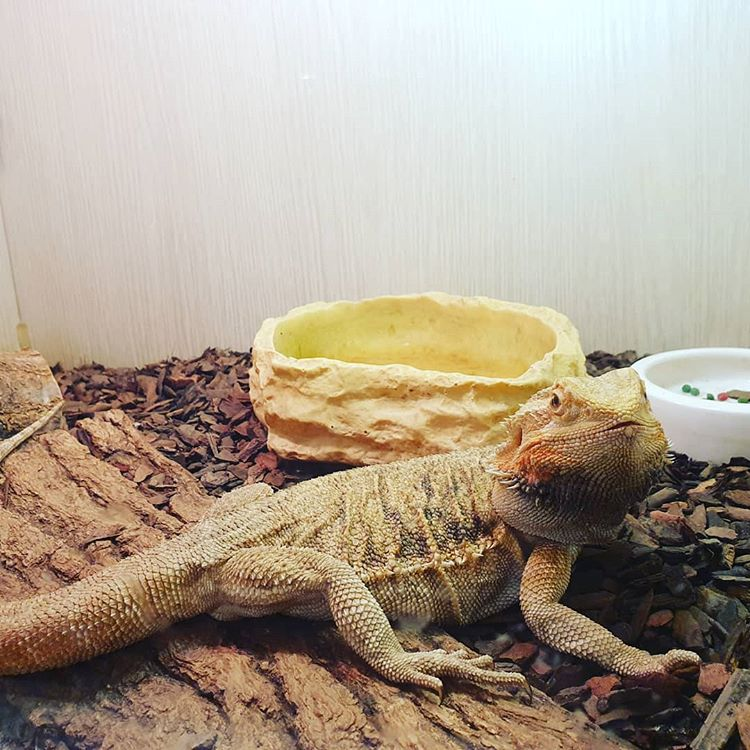bearded: (10, 360, 706, 705)
